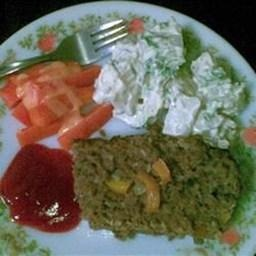background: (0, 6, 98, 98)
